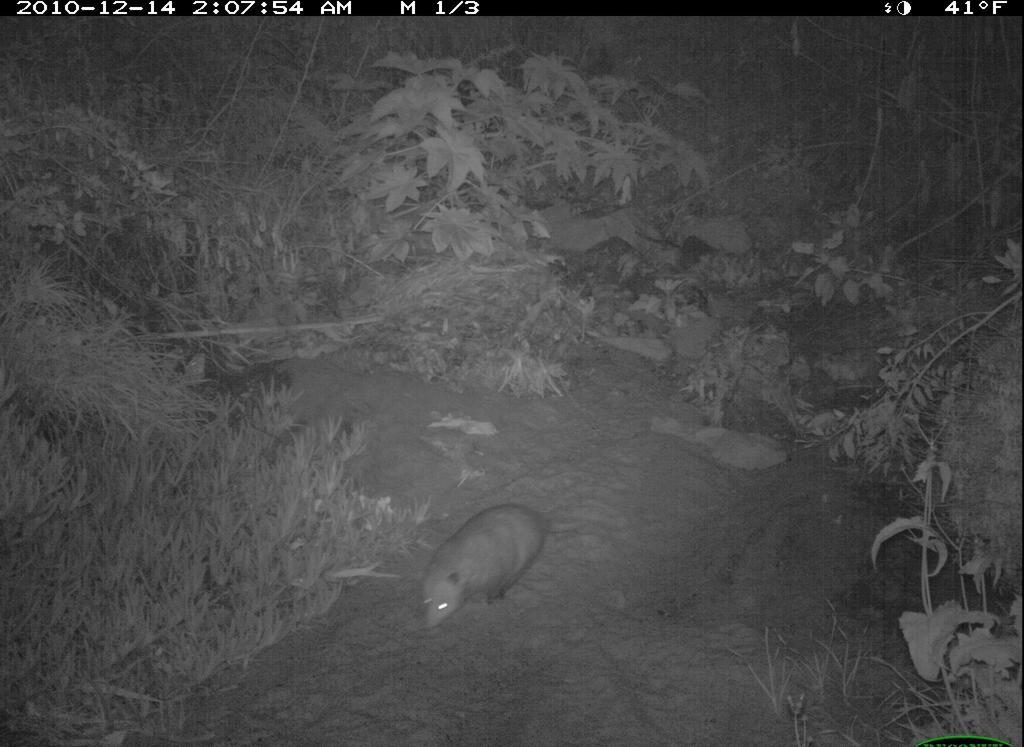opossum: (414, 496, 594, 641)
